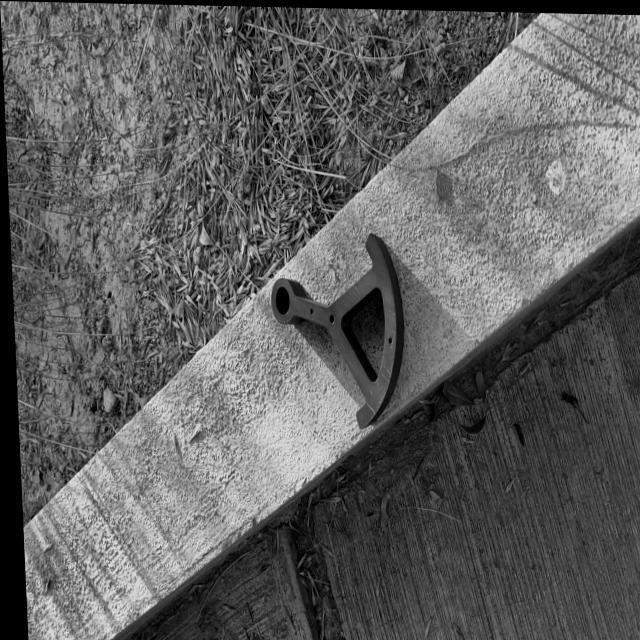haptic: (267, 229, 410, 431)
